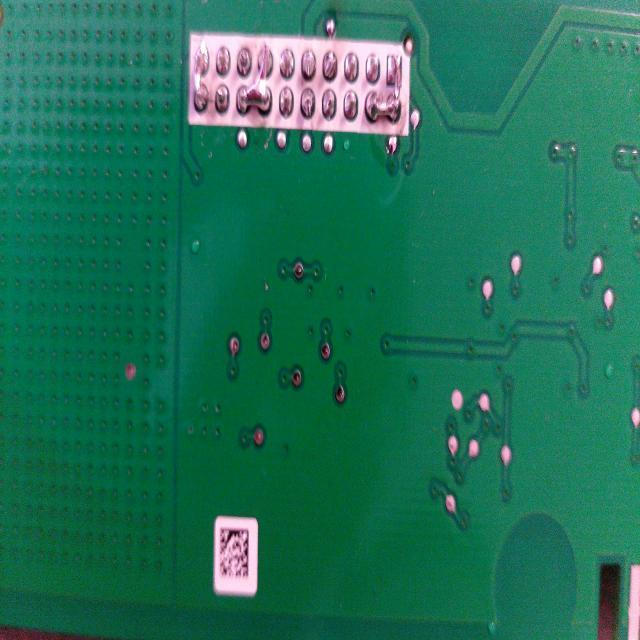Soldering shorted: (366, 54, 404, 134), (238, 49, 273, 120), (191, 34, 210, 112)
